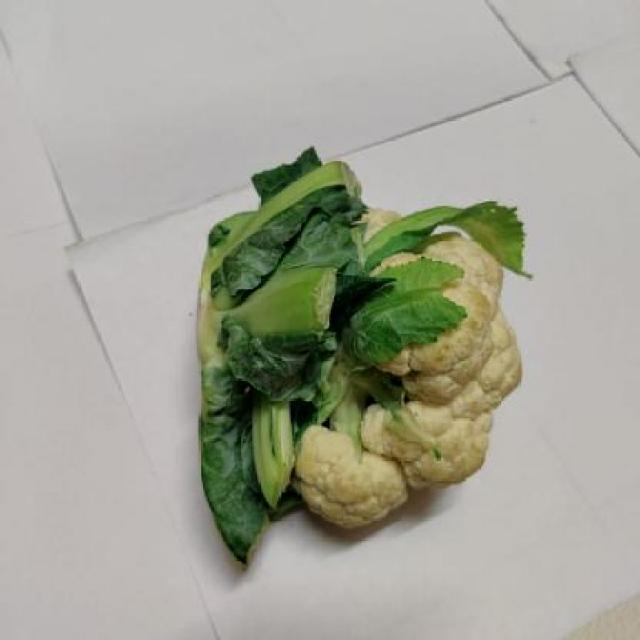Cauliflower: (188, 138, 548, 564)
